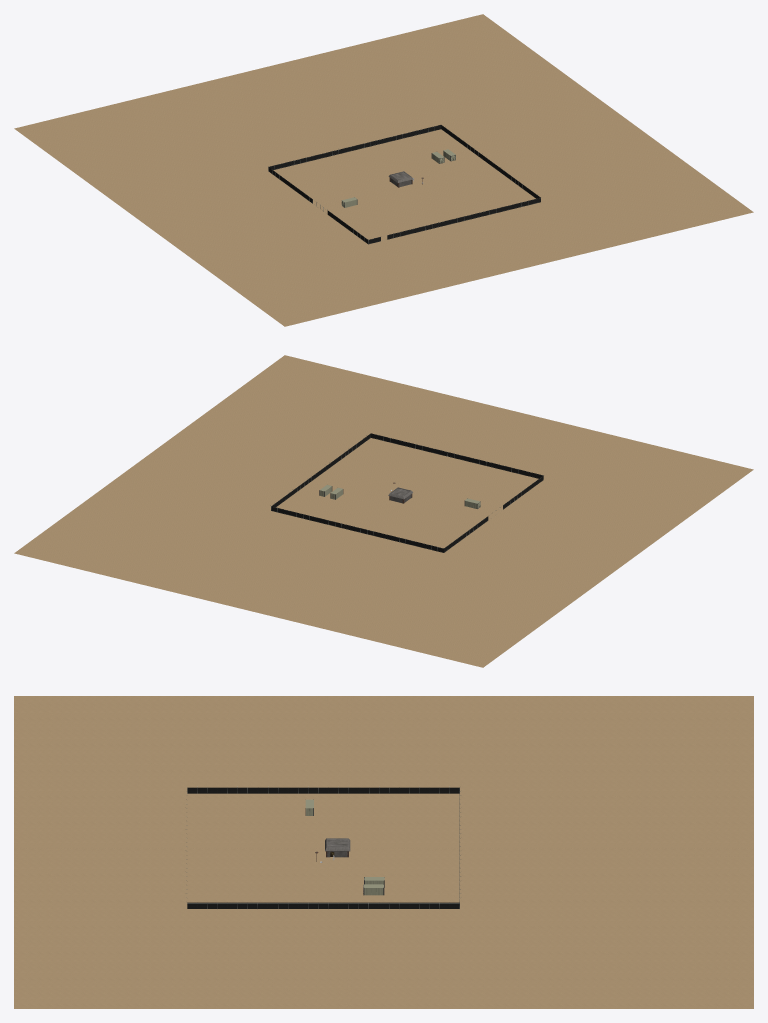
Rendered from Eviorment 2.0 M5.fbx.
3 renders of one model, top to bottom at view 1: azimuth 30°, elevation 25°; view 2: azimuth 150°, elevation 25°; view 3: azimuth 270°, elevation 25°, orthographic. The views are drawn at different scales.
Parts seen in each view (by area): view 1: Plane, fence with barbwire, fence with barbwire.004, fence with barbwire.002; view 2: Plane, fence with barbwire, fence with barbwire.004, fence with barbwire.002; view 3: Plane, fence with barbwire.006, fence with barbwire.002.
Part boxes in pixels (box(x1,y1,x2,y2)): Plane: box(14, 14, 753, 326); fence with barbwire: box(268, 125, 441, 171); fence with barbwire.004: box(368, 198, 540, 244); fence with barbwire.002: box(441, 125, 540, 198); Plane: box(14, 355, 753, 667); fence with barbwire: box(271, 506, 443, 552); fence with barbwire.004: box(371, 433, 543, 478); fence with barbwire.002: box(270, 433, 370, 510); Plane: box(14, 696, 753, 1008); fence with barbwire.006: box(187, 786, 459, 793); fence with barbwire.002: box(187, 902, 459, 908).
Bounding box in the file's own units: 66062 × 3259 × 66062.
